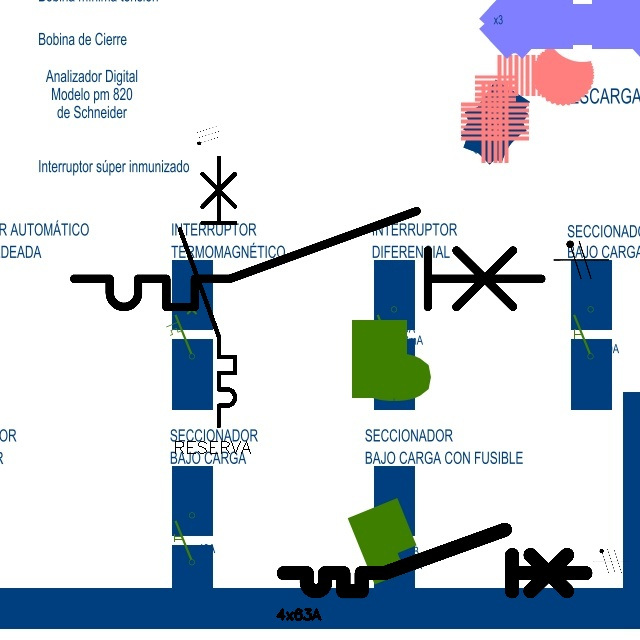interruptor_termomagnetico: (62, 199, 553, 319), (276, 522, 593, 599), (173, 150, 242, 432)
